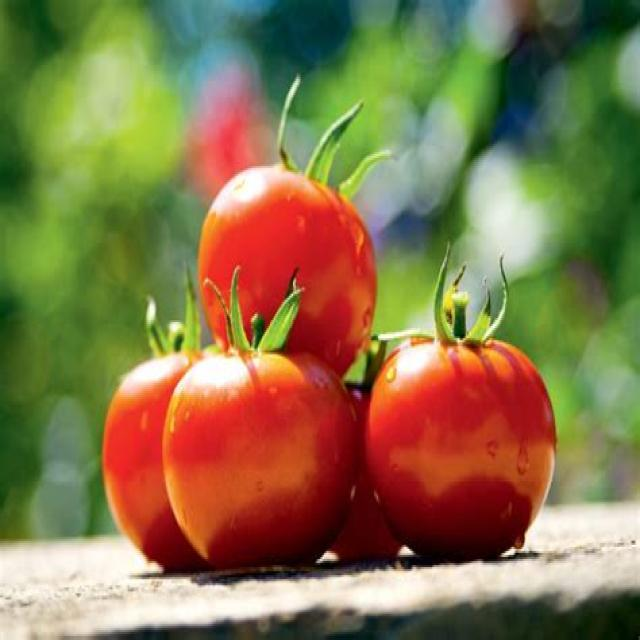Tomato: (362, 337, 557, 564), (162, 353, 357, 568), (195, 167, 380, 381), (100, 354, 211, 575)
